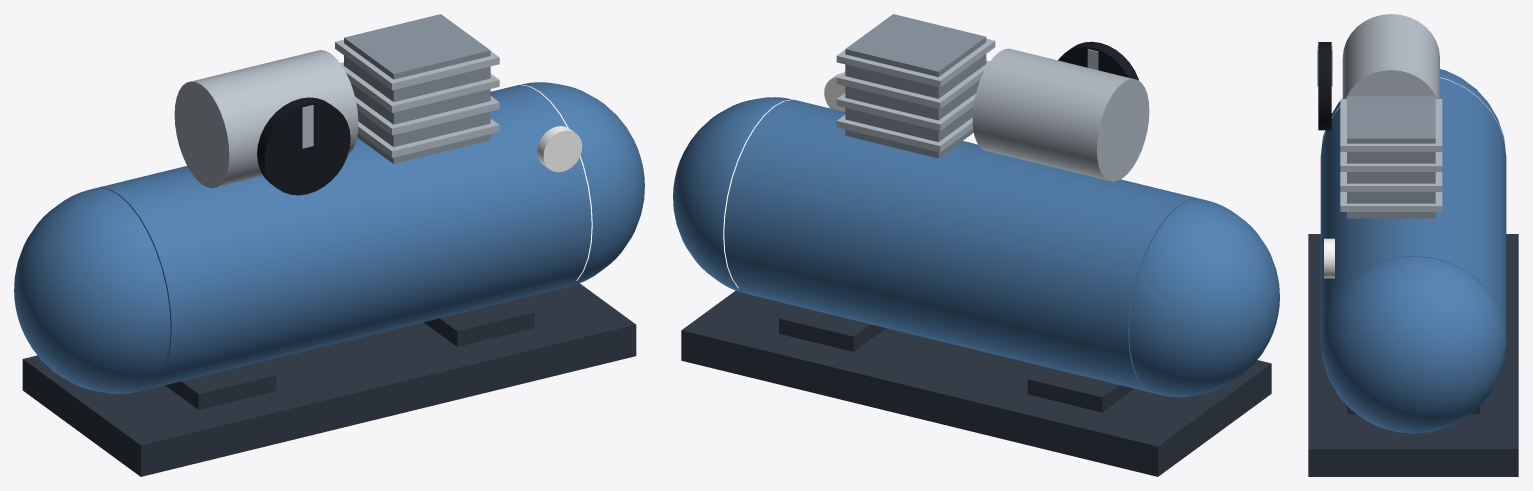
The model's file is compressor.glb.
3 renders of one model, left to right at view 1: azimuth 30°, elevation 25°; view 2: azimuth 150°, elevation 25°; view 3: azimuth 270°, elevation 25°, orthographic. The views are drawn at different scales.
Parts seen in each view (by area): view 1: part_tank (×3), frame (×3), part_motor (×2), part_head (×5), part_gauge; view 2: part_tank (×3), frame (×3), part_motor (×2), part_head (×5); view 3: part_tank (×3), frame, part_head (×5), part_motor (×2), part_gauge.
Boxes of the visible parts, <box> form: part_tank (×3): <box>14,82,644,393</box>; frame (×3): <box>22,281,636,476</box>; part_motor (×2): <box>174,50,358,195</box>; part_head (×5): <box>335,14,499,163</box>; part_gauge: <box>537,126,582,172</box>; part_tank (×3): <box>673,97,1279,396</box>; frame (×3): <box>681,288,1271,476</box>; part_motor (×2): <box>972,41,1149,181</box>; part_head (×5): <box>836,14,995,158</box>; part_tank (×3): <box>1320,69,1506,433</box>; frame: <box>1308,234,1518,476</box>; part_head (×5): <box>1340,96,1442,218</box>; part_motor (×2): <box>1318,14,1439,130</box>; part_gauge: <box>1324,238,1334,278</box>.
Size of the model in its own units: 2.8 by 1.47 by 0.95.
